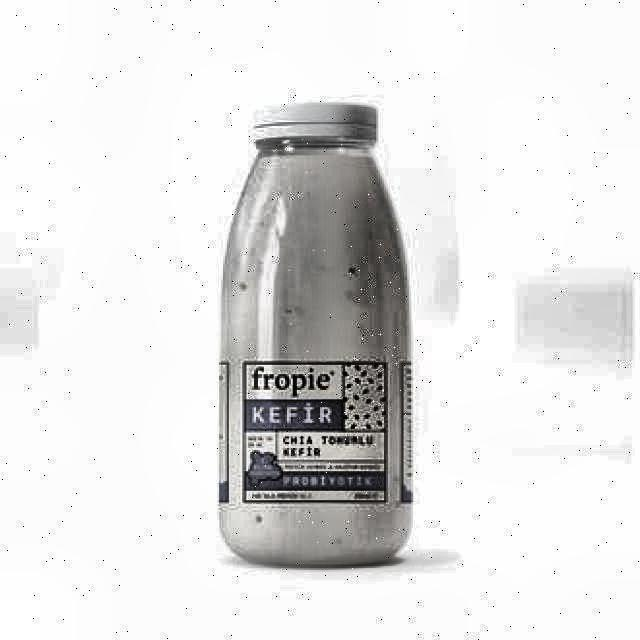glass: (215, 100, 415, 571)
